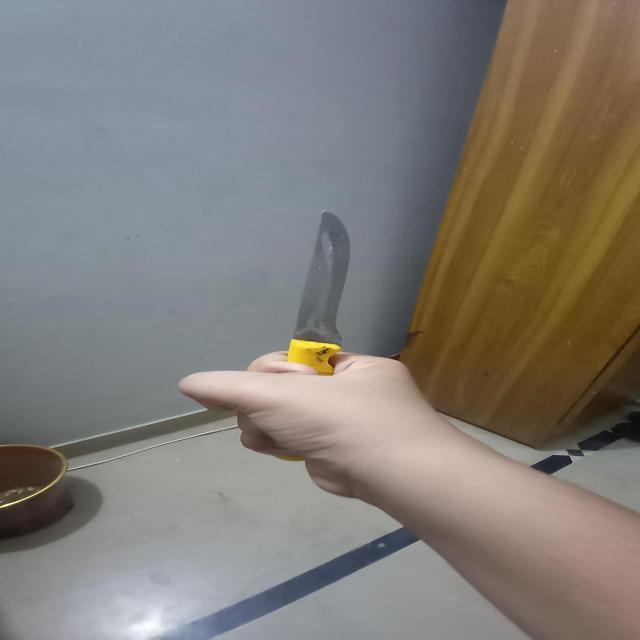Knife: (292, 210, 350, 383)
Person: (178, 350, 640, 640)
